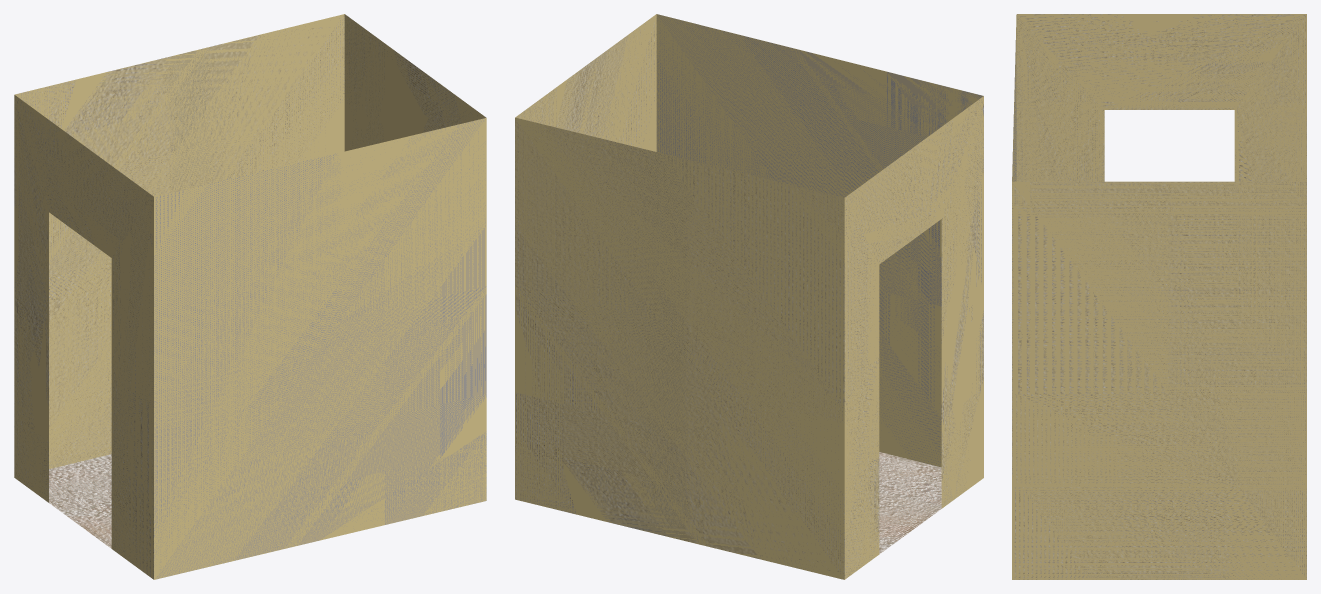
File: CUA005.obj
3 renders of one model, left to right at view 1: azimuth 30°, elevation 25°; view 2: azimuth 150°, elevation 25°; view 3: azimuth 270°, elevation 25°, orthographic. The views are drawn at different scales.
Parts seen in each view (by area): view 1: Mesh1 CUA005 Model; view 2: Mesh1 CUA005 Model; view 3: Mesh1 CUA005 Model.
Boxes of the visible parts, left/top/right/bottom form: Mesh1 CUA005 Model: left=14, top=14, right=486, bottom=579; Mesh1 CUA005 Model: left=515, top=14, right=983, bottom=579; Mesh1 CUA005 Model: left=1012, top=14, right=1306, bottom=579.
Size of the model in its own units: 2.71 by 3 by 2.01.
Materials: 4 (2 with a texture image).
